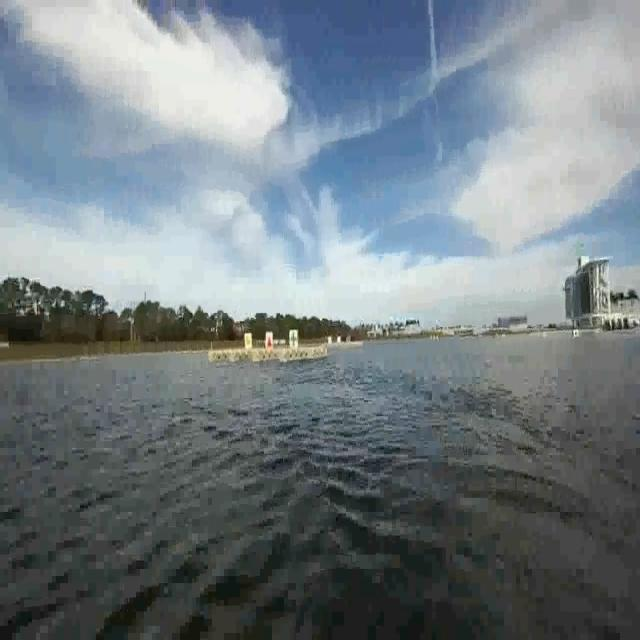blue-cross: (290, 327, 299, 348)
red-dot: (264, 329, 275, 350)
yellow-duck: (244, 330, 253, 352)
